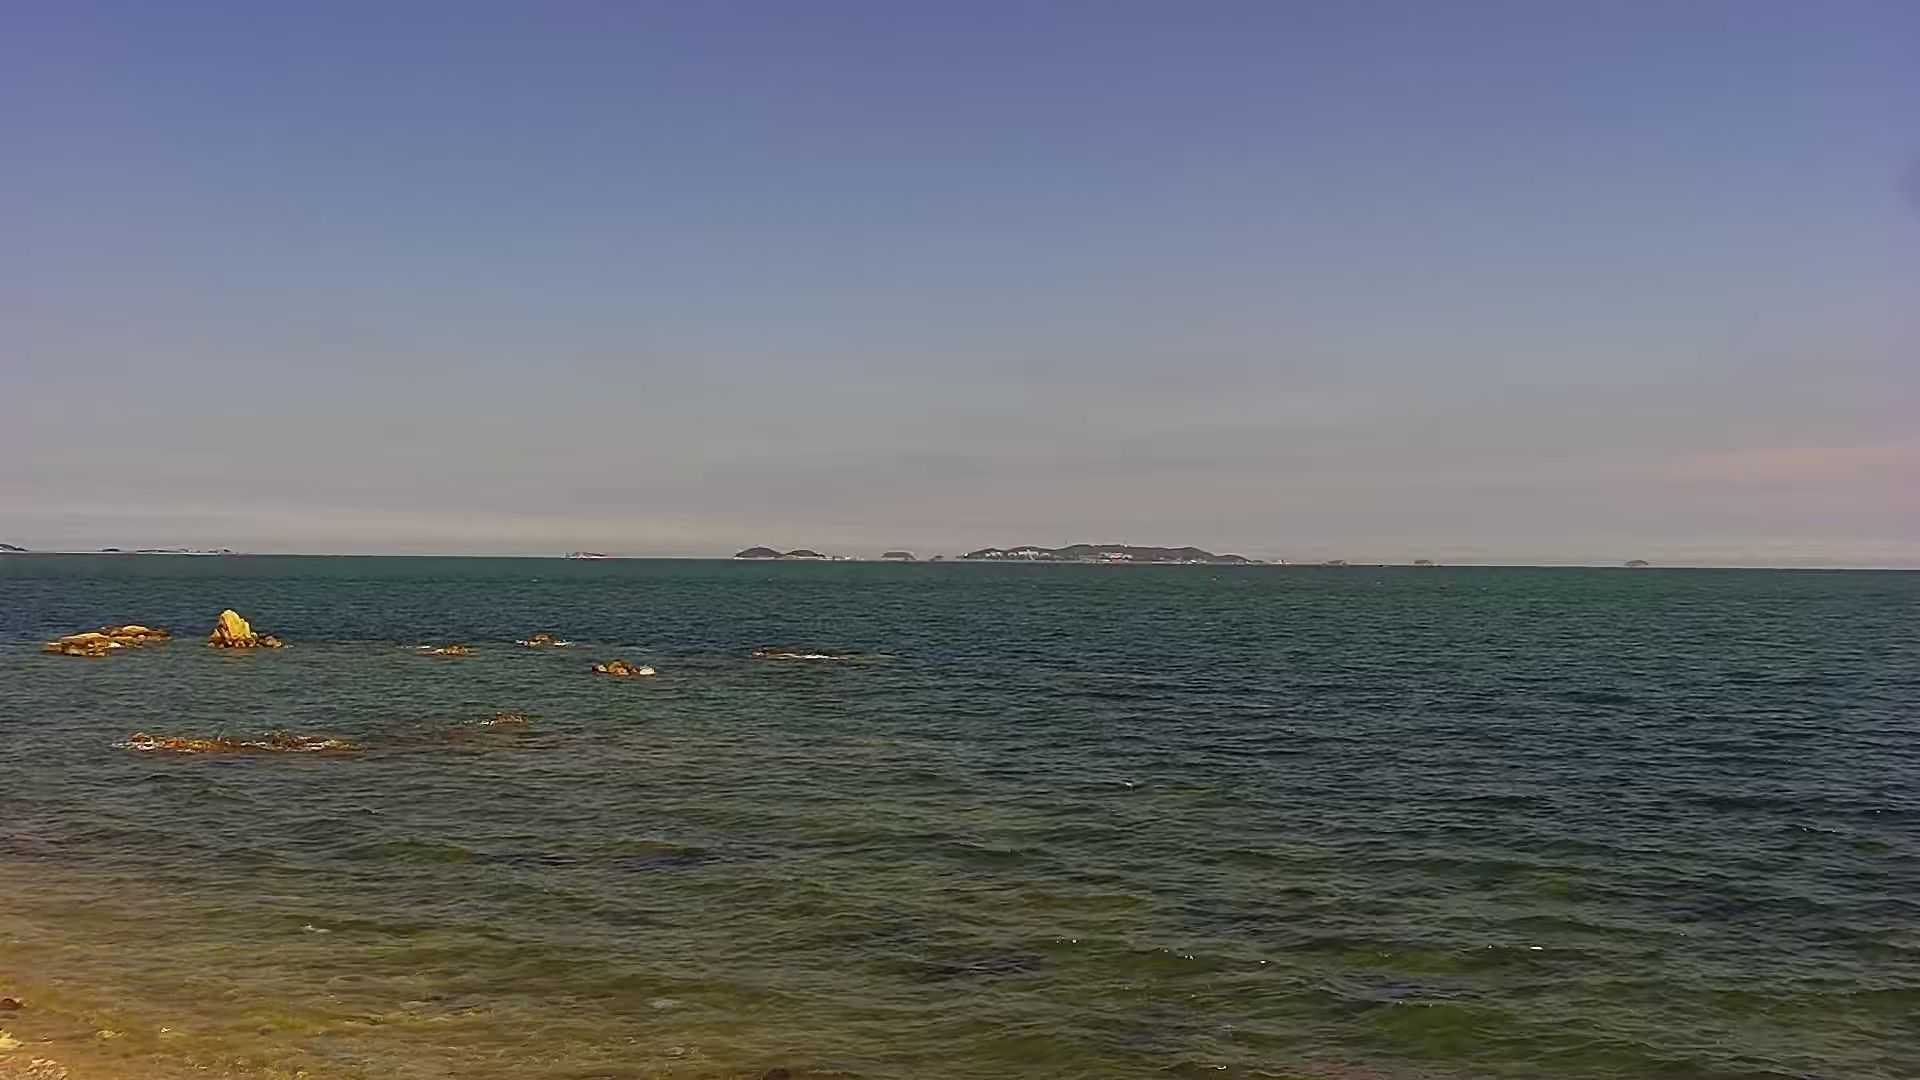rock: (949, 537, 1276, 568), (112, 721, 345, 764), (42, 612, 183, 663), (207, 593, 293, 655), (92, 535, 240, 560), (580, 650, 661, 694), (468, 703, 556, 731), (513, 618, 579, 655), (411, 633, 487, 663), (553, 542, 630, 562), (721, 541, 796, 560), (781, 541, 843, 562), (877, 543, 923, 562), (1621, 547, 1660, 568), (1408, 550, 1439, 575), (1320, 549, 1356, 566)
